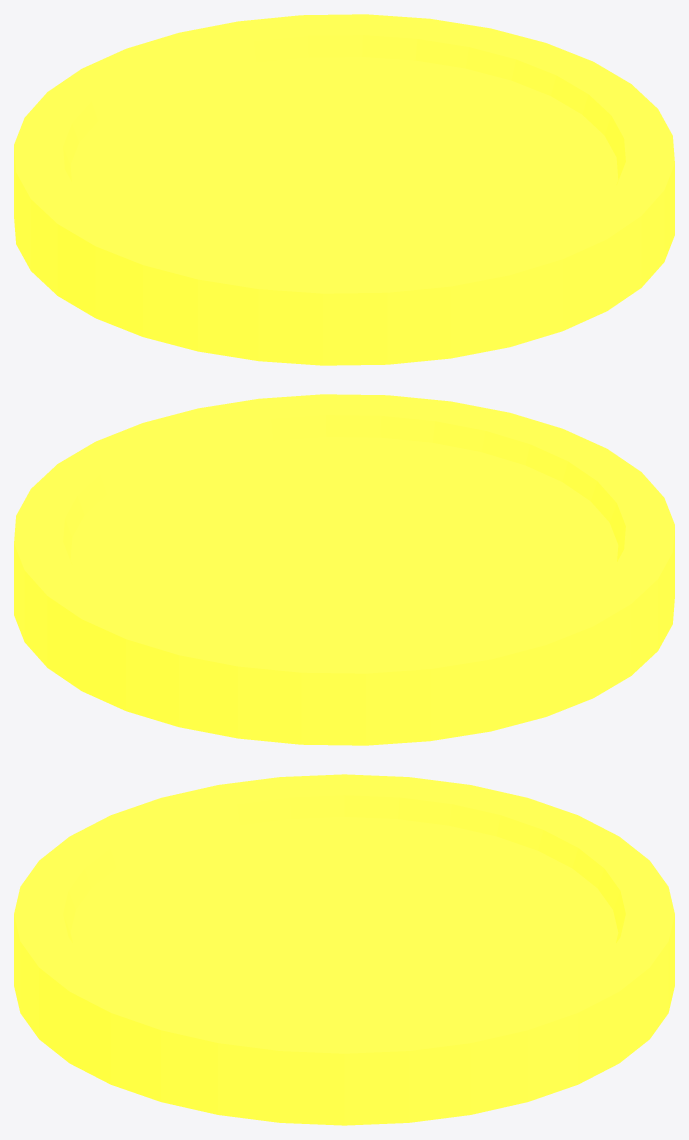
The model's file is gold.fbx.
3 views of the same model, one above another, from view 1: azimuth 30°, elevation 25°; view 2: azimuth 150°, elevation 25°; view 3: azimuth 270°, elevation 25° (orthographic).
Parts seen in each view (by area): view 1: Cylinder; view 2: Cylinder; view 3: Cylinder.
Boxes of the visible parts, x1,y1,x2,y2 form: Cylinder: (14, 14, 674, 365); Cylinder: (14, 394, 674, 745); Cylinder: (14, 774, 674, 1125).
Bounding box in the file's own units: 200 × 24 × 200.
